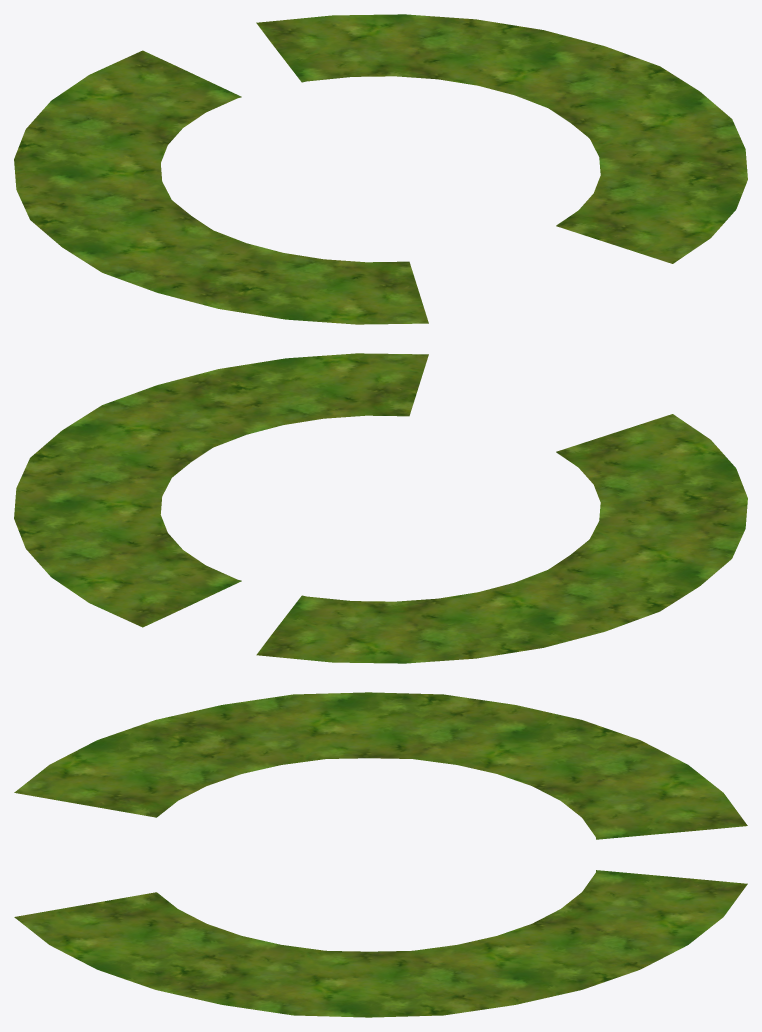
The model's file is Grass.fbx.
3 renders of one model, top to bottom at view 1: azimuth 30°, elevation 25°; view 2: azimuth 150°, elevation 25°; view 3: azimuth 270°, elevation 25°, orthographic. The views are drawn at different scales.
Parts seen in each view (by area): view 1: Grass; view 2: Grass; view 3: Grass.
Boxes of the visible parts, left/top/right/bottom form: Grass: left=14, top=14, right=747, bottom=324; Grass: left=14, top=353, right=747, bottom=663; Grass: left=14, top=692, right=747, bottom=1017.
Bounding box in the file's own units: 12073 × 0.00293 × 11516.
